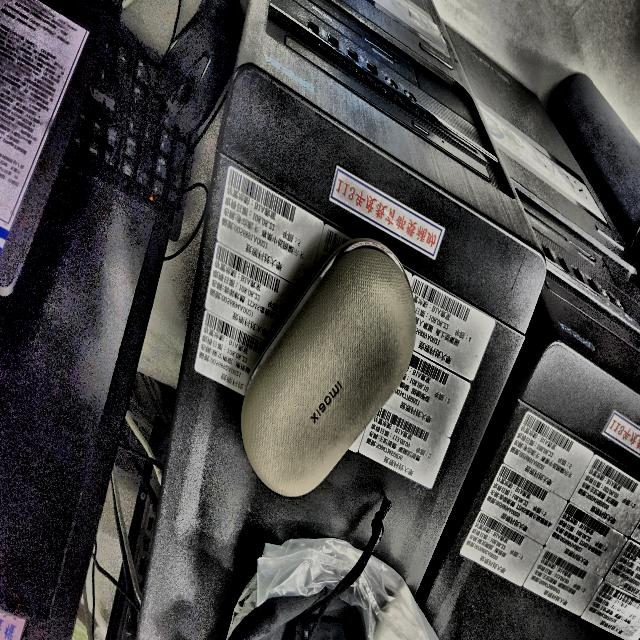Bluetooth headphones: (241, 238, 416, 496)
Keyboard: (70, 28, 193, 241)
MOUSE: (162, 2, 241, 138)
Screen: (0, 168, 169, 640)
